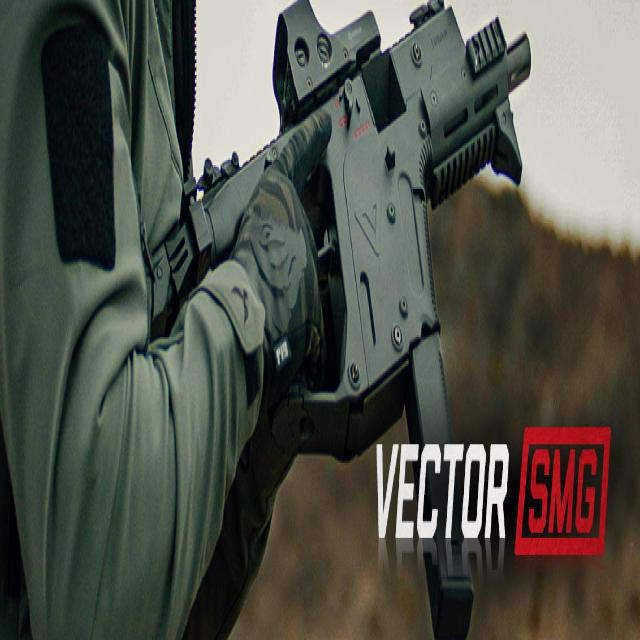Weapon: (152, 0, 530, 458)
